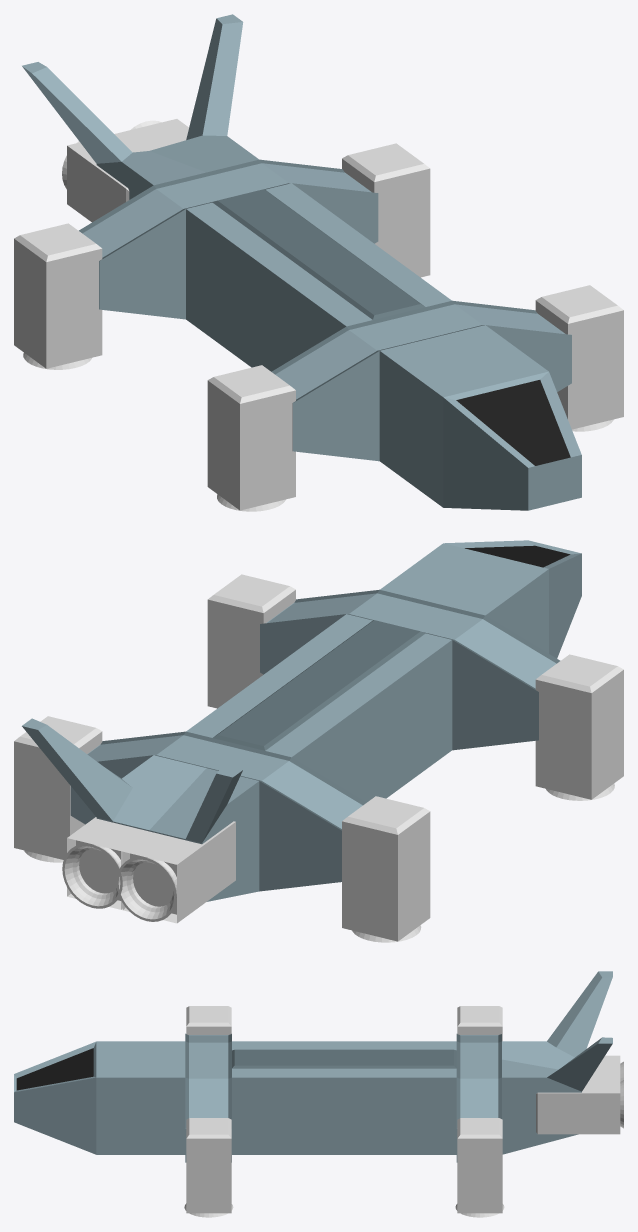
File: endeavour.glb
3 views of the same model, one above another, from view 1: azimuth 30°, elevation 25°; view 2: azimuth 150°, elevation 25°; view 3: azimuth 270°, elevation 25° (orthographic). The views are drawn at different scales.
Visible parts, largest first — view 1: hull, hoverThruster1.001, hoverThruster1.002, hoverThruster1.004, hoverThruster1.003, mainThruster1, mainThruster2; view 2: hull, hoverThruster1.002, hoverThruster1.001, mainThruster1, hoverThruster1.003, hoverThruster1.004, mainThruster2; view 3: hull, hoverThruster1.004, hoverThruster1.003, mainThruster2, hoverThruster1.002, hoverThruster1.001, mainThruster1.
Boxes of the visible parts, x1,y1,x2,y2 form: hull: [22, 14, 581, 510]; hoverThruster1.001: [207, 365, 295, 511]; hoverThruster1.002: [14, 223, 102, 369]; hoverThruster1.004: [535, 285, 623, 431]; hoverThruster1.003: [342, 143, 430, 277]; mainThruster1: [62, 132, 148, 222]; mainThruster2: [121, 119, 188, 150]; hull: [22, 540, 581, 901]; hoverThruster1.002: [342, 796, 430, 942]; hoverThruster1.001: [535, 654, 623, 800]; mainThruster1: [116, 821, 235, 923]; hoverThruster1.003: [14, 716, 102, 862]; hoverThruster1.004: [207, 574, 295, 708]; mainThruster2: [62, 817, 149, 909]; hull: [14, 971, 612, 1162]; hoverThruster1.004: [184, 1118, 233, 1217]; hoverThruster1.003: [455, 1118, 504, 1217]; mainThruster2: [536, 1074, 623, 1134]; hoverThruster1.002: [457, 1006, 502, 1041]; hoverThruster1.001: [186, 1006, 231, 1034]; mainThruster1: [593, 1055, 623, 1081].
Bounding box in the file's own units: 14.71 × 7.44 × 28.58.
Materials: 1 (1 with a texture image).
